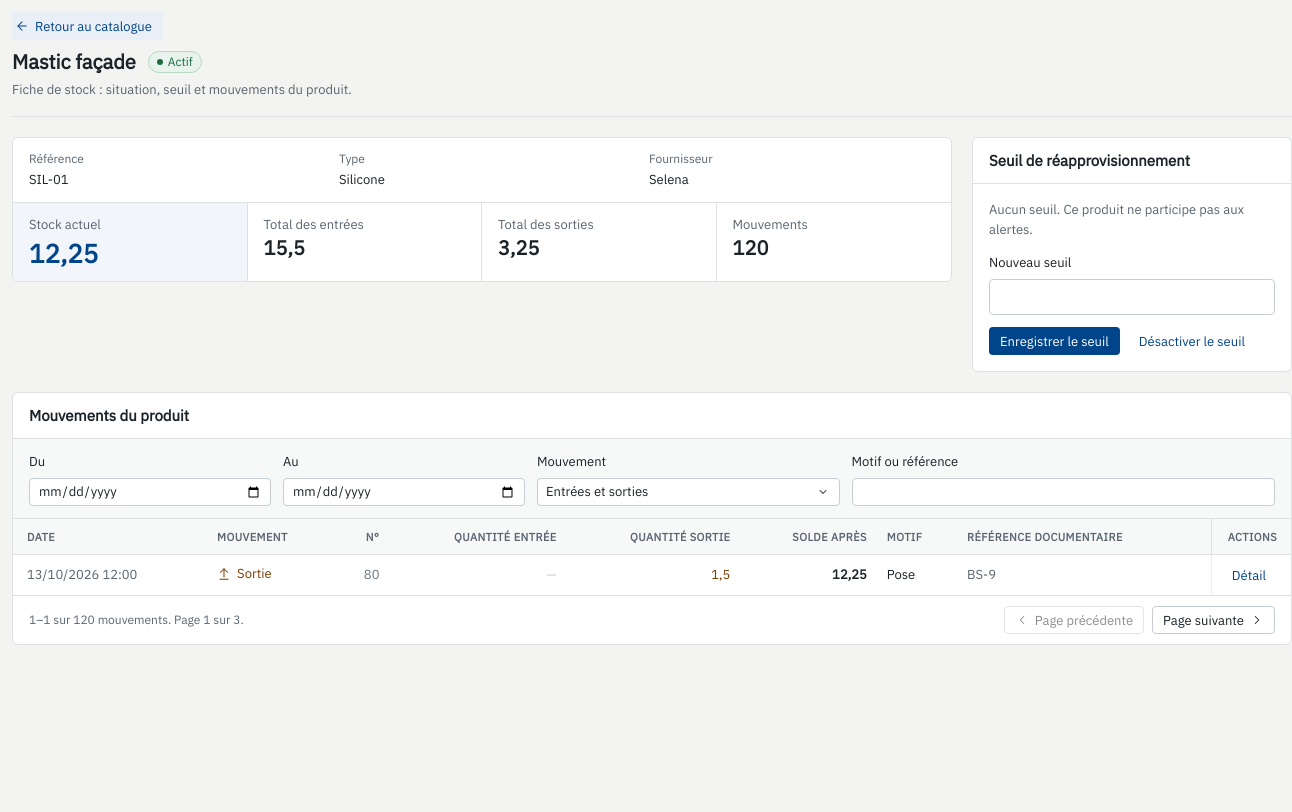
Test: fiche de stock › demande la page suivante sans relancer le calcul affiché
Click the button "Page suivante": (1214, 620) [1152,606,1275,634]
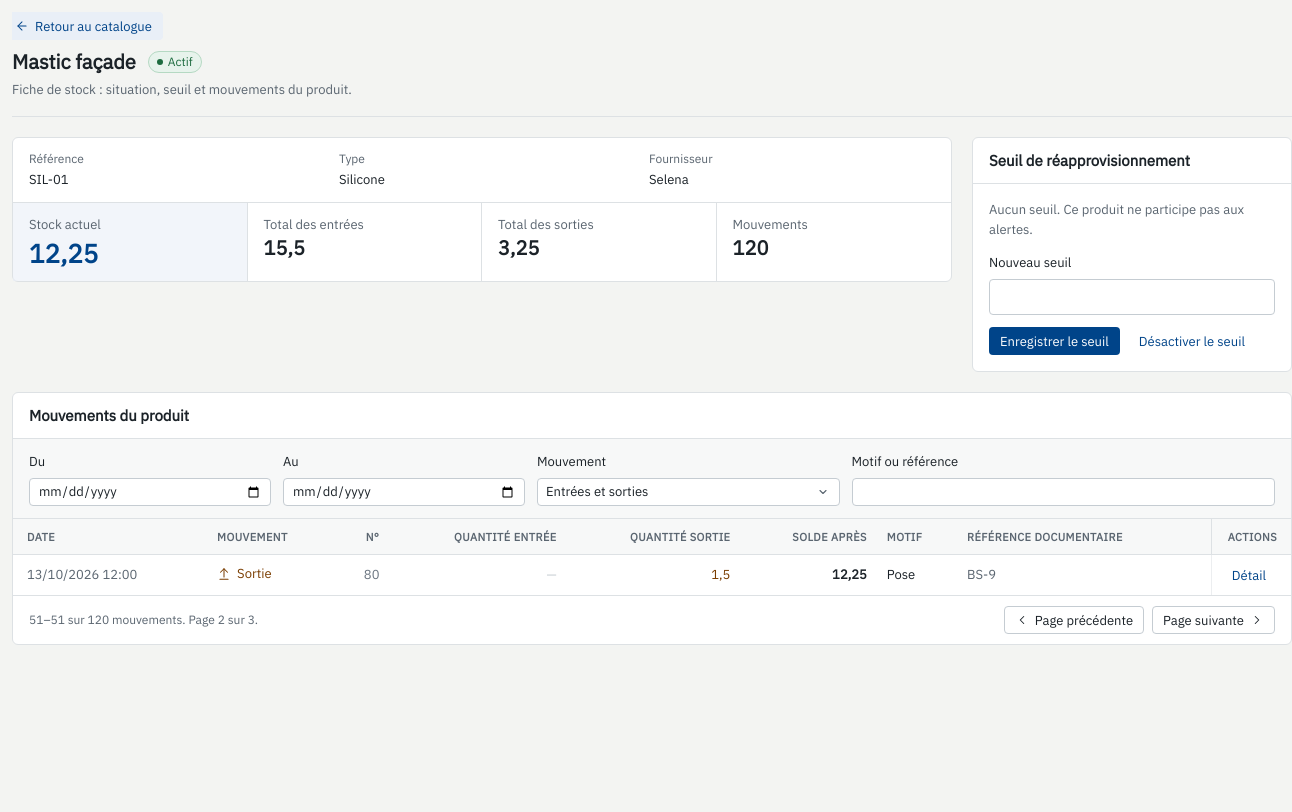
Expected: the text "51–51 sur 120 mouvements. Page 2 sur 3." is shown, [29,611,258,629]
